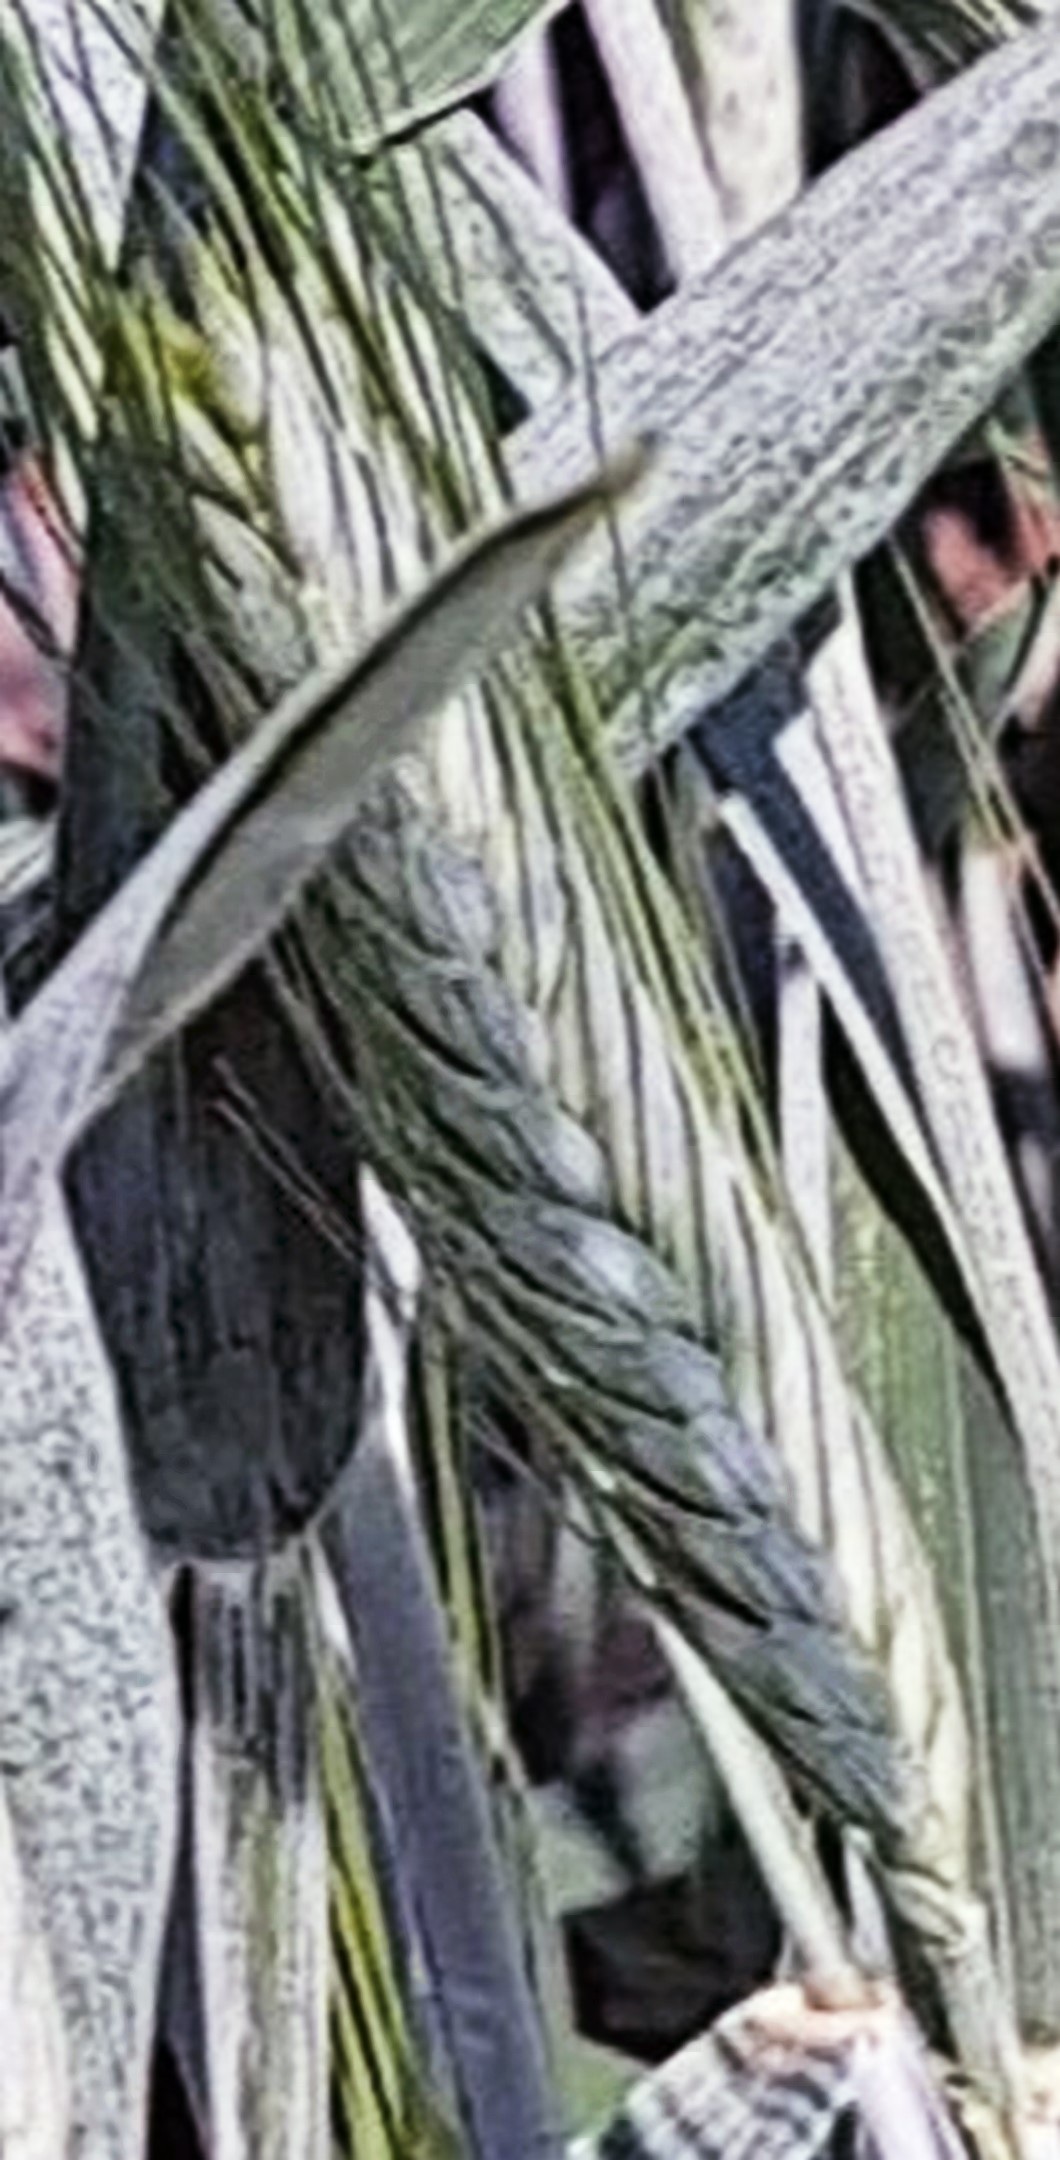Healthy Wheat: (92, 309, 1037, 1875)
